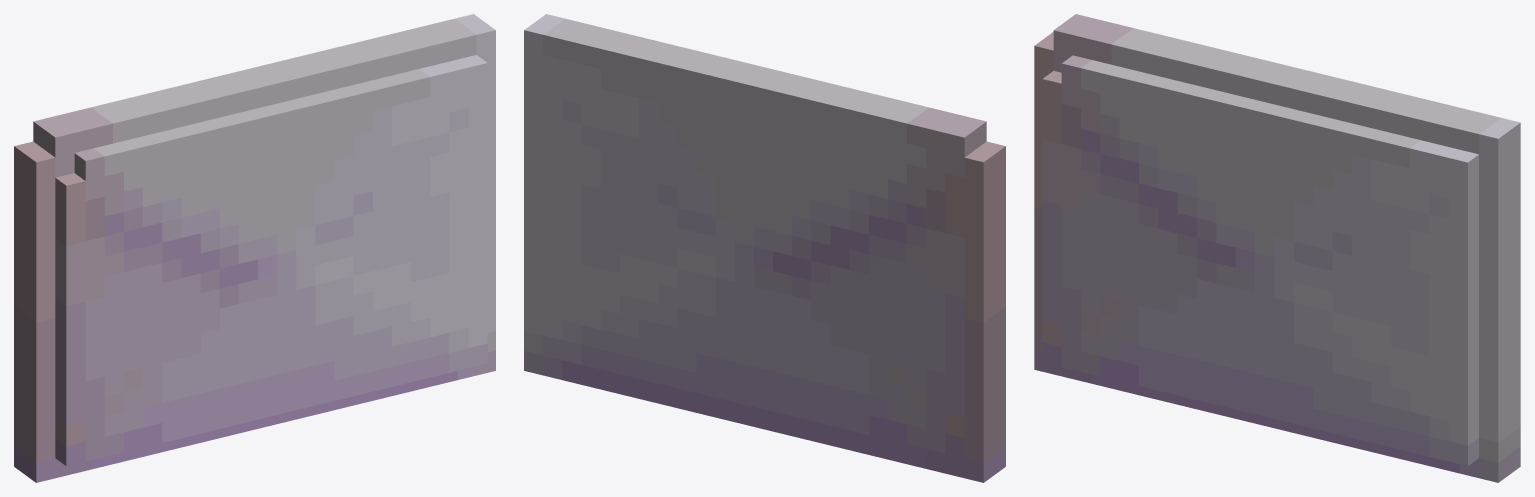
The model's file is envelope.glb.
3 renders of one model, left to right at view 1: azimuth 30°, elevation 25°; view 2: azimuth 150°, elevation 25°; view 3: azimuth 330°, elevation 25°, orthographic.
Parts seen in each view (by area): view 1: prop; view 2: prop; view 3: prop.
Part boxes in pixels (x1,y1,x2,y2): prop: [14, 14, 495, 482]; prop: [524, 14, 1005, 482]; prop: [1034, 14, 1520, 482].
Size of the model in its own units: 15.53 by 11 by 1.94.
